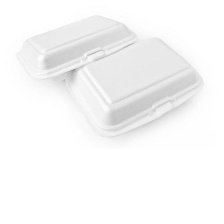foam_box: (57, 28, 211, 141), (9, 10, 142, 84)
